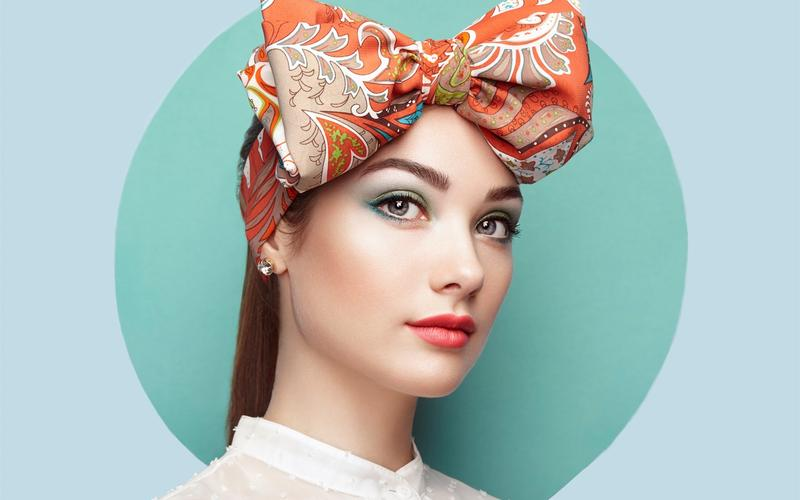no_mask: (330, 114, 531, 402)
